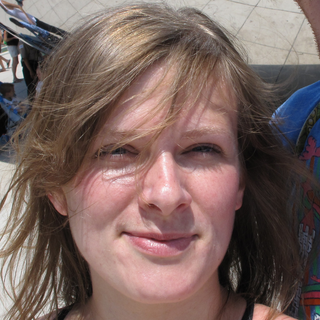eye: (91, 138, 143, 167), (175, 138, 228, 164)
